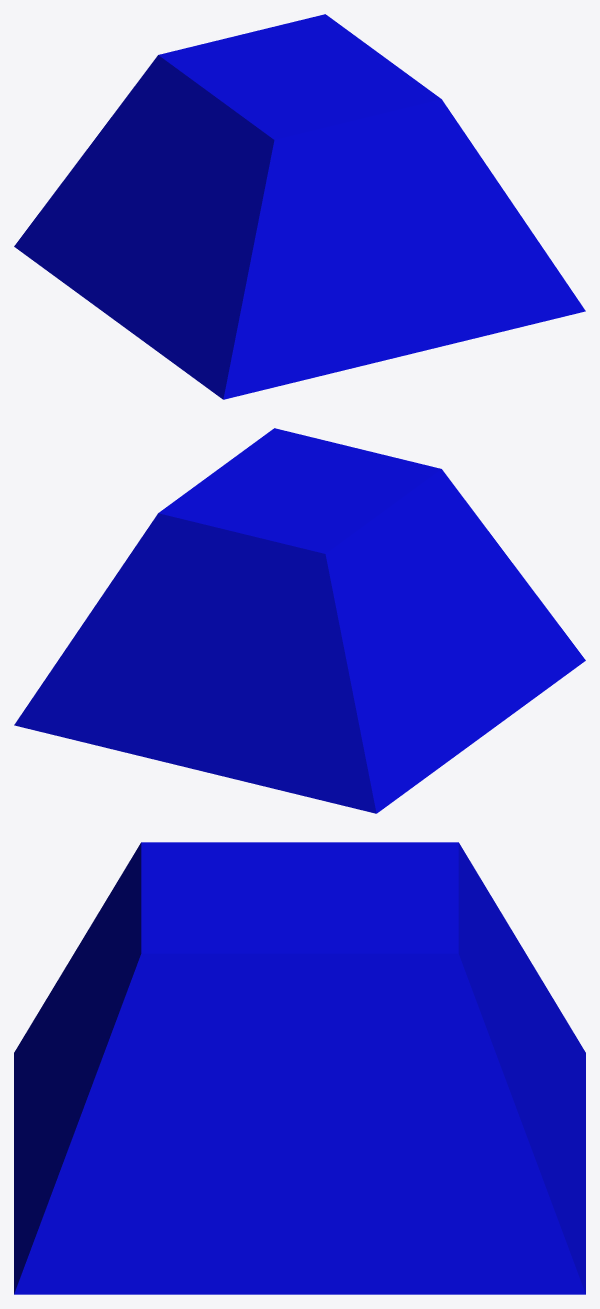
File: face-tronco.glb
3 renders of one model, top to bottom at view 1: azimuth 30°, elevation 25°; view 2: azimuth 150°, elevation 25°; view 3: azimuth 270°, elevation 25°, orthographic. The views are drawn at different scales.
Visible parts, largest first — view 1: Cube; view 2: Cube; view 3: Cube.
Part boxes in pixels (bbox=[...]): Cube: bbox=[14, 14, 585, 399]; Cube: bbox=[14, 428, 585, 813]; Cube: bbox=[14, 842, 585, 1294].
Size of the model in its own units: 2 by 1.06 by 2.
